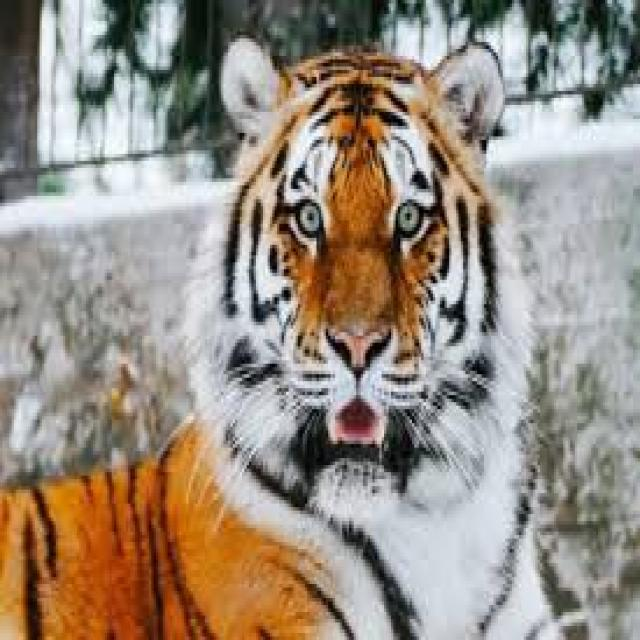Tiger: (0, 35, 549, 636)
